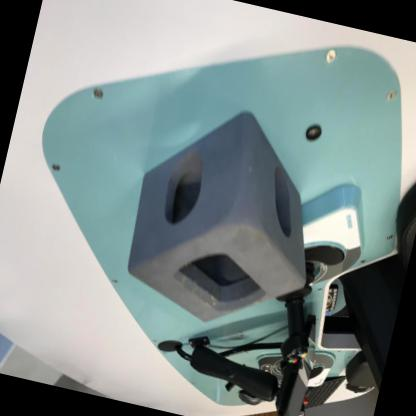CornerCasting: (113, 86, 346, 346)
